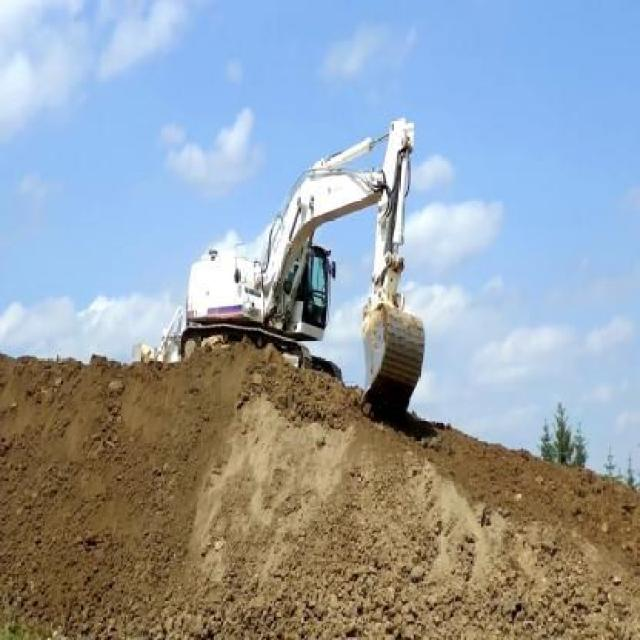excavator: (178, 112, 424, 416)
